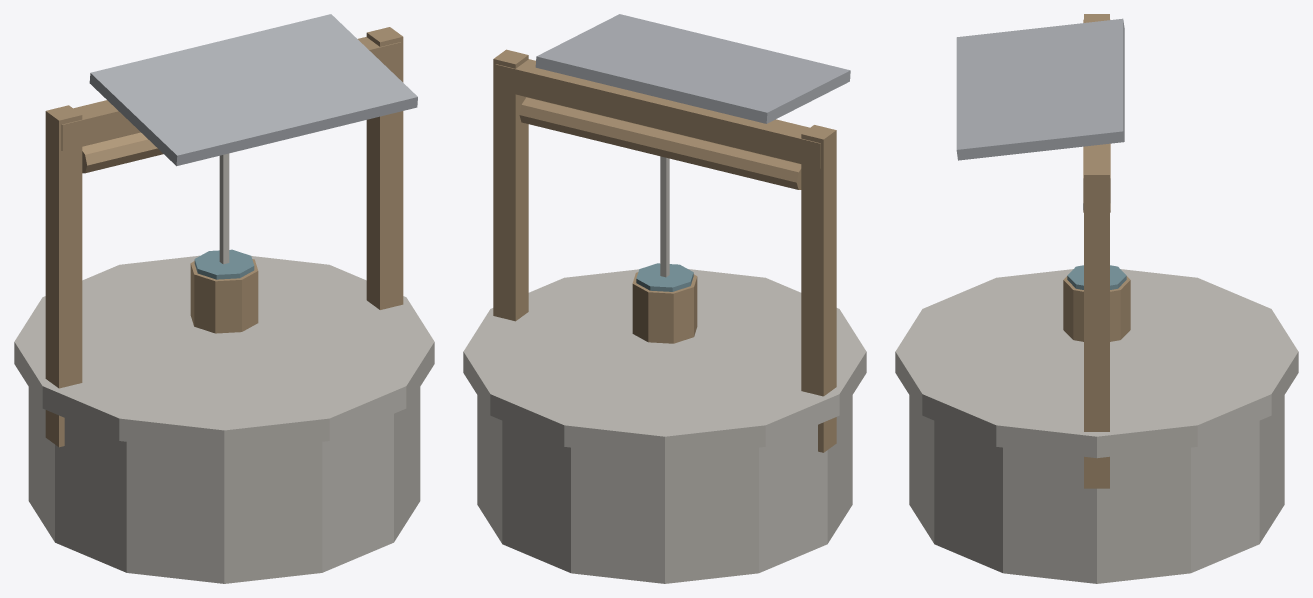
Rendered from well.glb.
3 views of the same model, side by side, from view 1: azimuth 30°, elevation 25°; view 2: azimuth 150°, elevation 25°; view 3: azimuth 270°, elevation 25° (orthographic). The views are drawn at different scales.
Parts seen in each view (by area): view 1: well; view 2: well; view 3: well.
Part boxes in pixels (bbox=[...]): well: bbox=[14, 14, 434, 583]; well: bbox=[463, 14, 866, 583]; well: bbox=[895, 14, 1298, 583].
Size of the model in its own units: 2.04 by 2.4 by 2.04.
